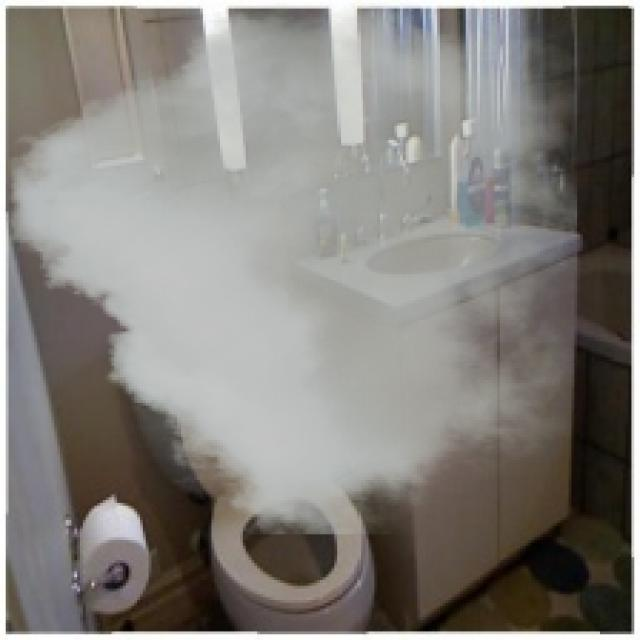Smoke: (9, 2, 578, 534)
